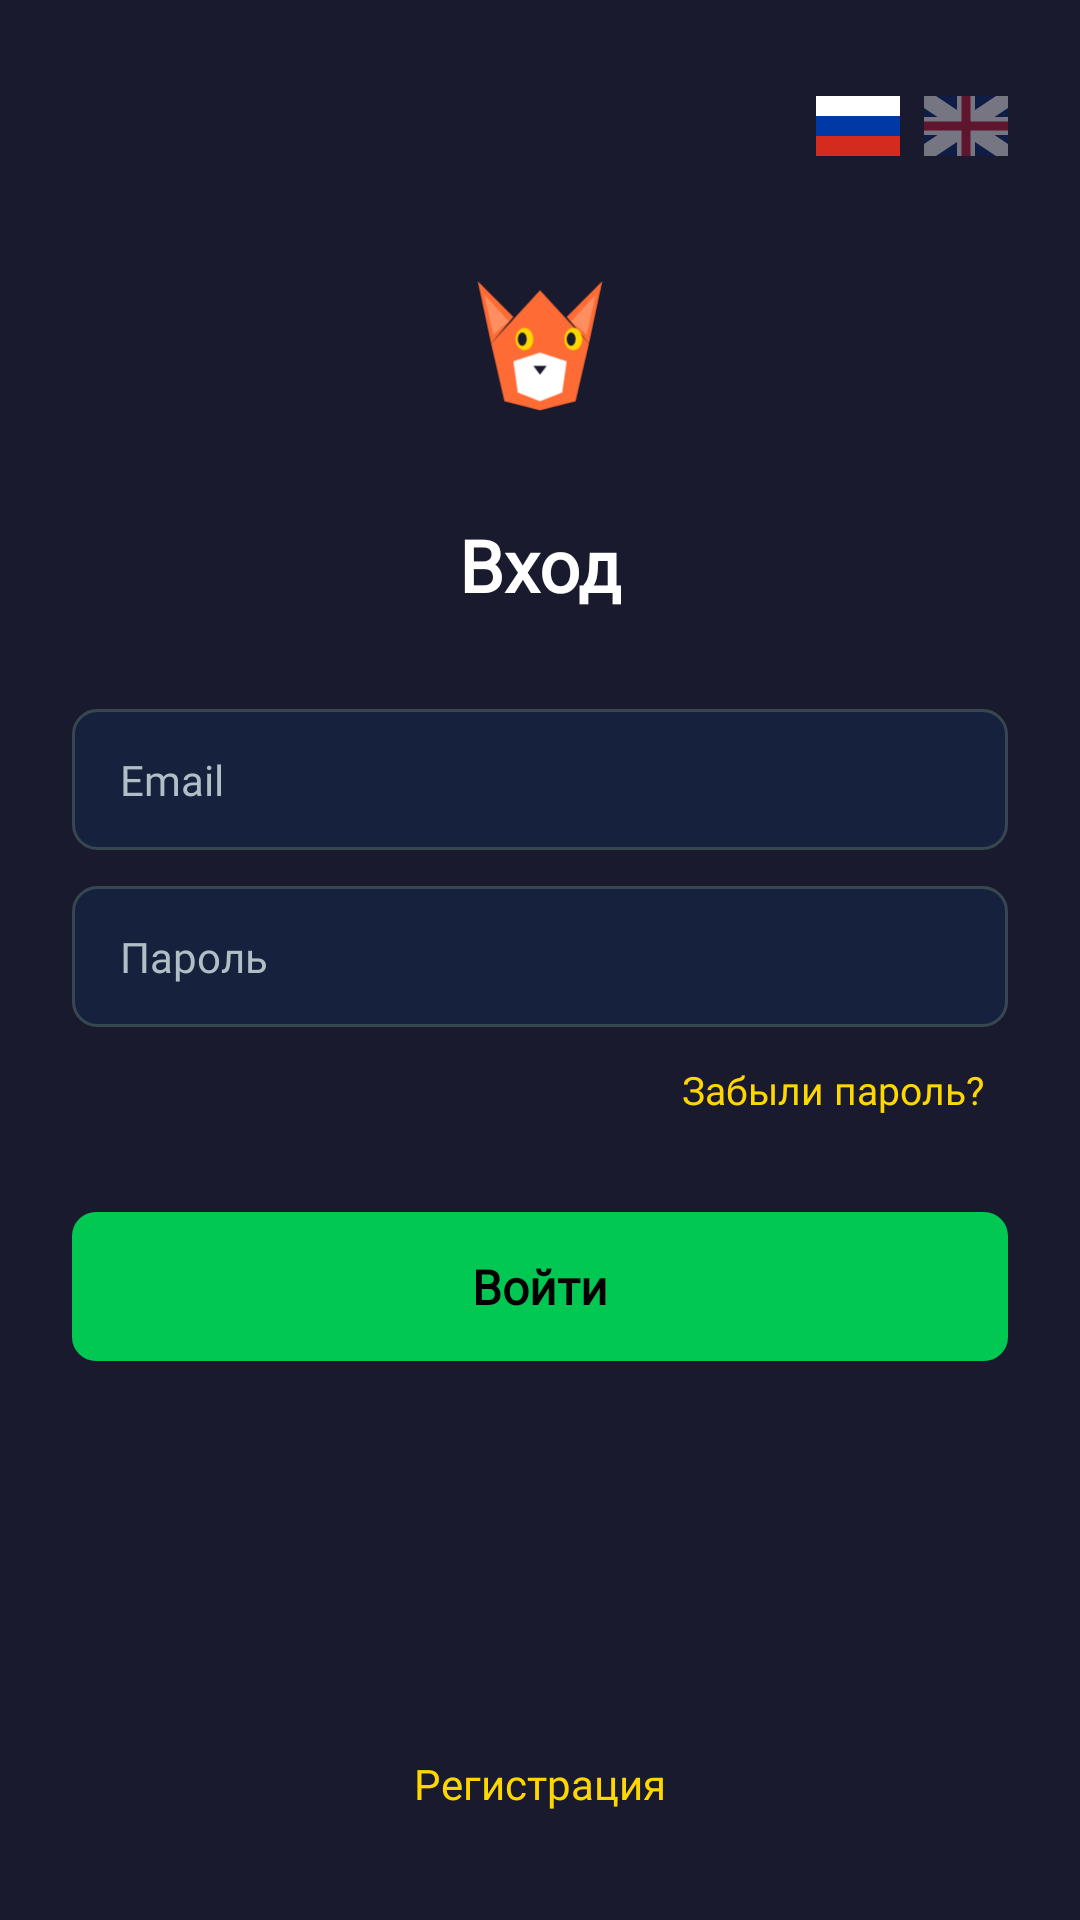

Point at icon controls on the screen. Image size 1080×1920, points as (x=x, y=y).
English: (x=966, y=126)
Русский: (x=858, y=126)
